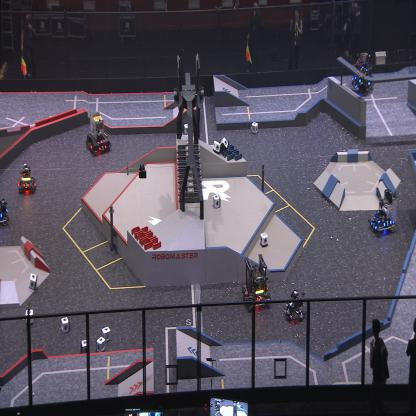car: (241, 253, 270, 311), (368, 187, 398, 236), (85, 107, 112, 156), (350, 51, 374, 95), (282, 289, 308, 323), (17, 161, 38, 194), (0, 192, 9, 230)
